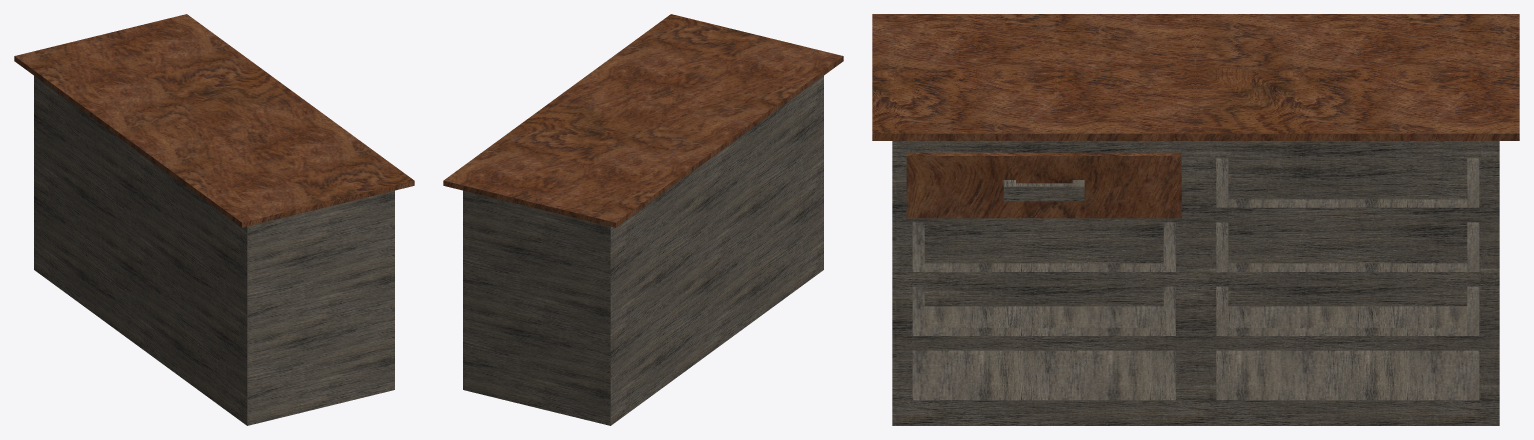
File: table.fbx
3 renders of one model, left to right at view 1: azimuth 30°, elevation 25°; view 2: azimuth 150°, elevation 25°; view 3: azimuth 270°, elevation 25°, orthographic. The views are drawn at different scales.
Parts seen in each view (by area): view 1: table; view 2: table; view 3: table, drawer.
Part boxes in pixels (x1,y1,x2,y2): table: (14,14,414,425); table: (443,14,843,425); table: (872,14,1519,425); drawer: (906,152,1181,218).
Bounding box in the file's own units: 284 × 328 × 640.
2 materials, 2 textured.
